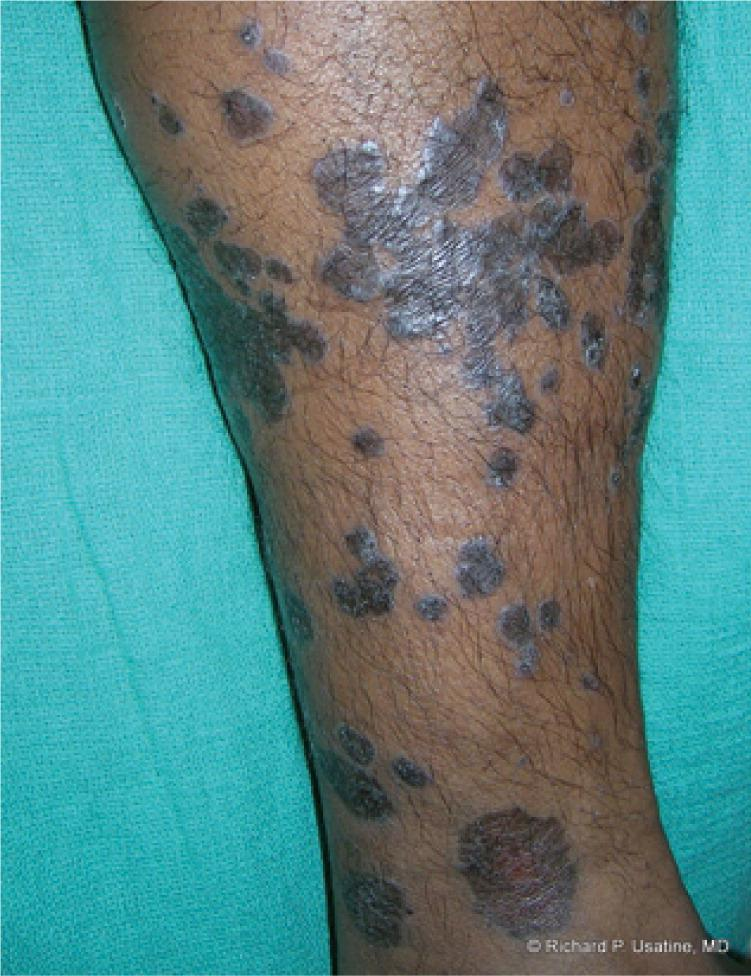hypertrophic lichen planus: (254, 17, 645, 619), (332, 702, 611, 941)
